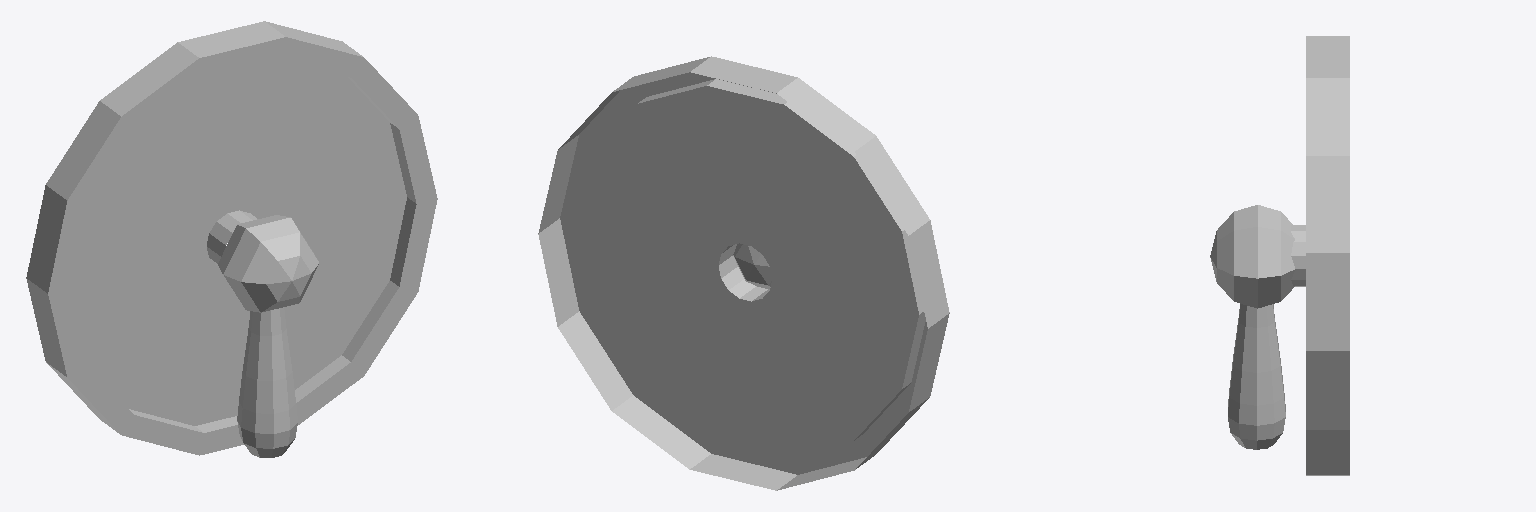
Rendered from bathtub_faucet_handles_4.obj.
The picture shows the model from 3 angles: view 1: azimuth 30°, elevation 25°; view 2: azimuth 150°, elevation 25°; view 3: azimuth 270°, elevation 25°; orthographic projection.
Size of the model in its own units: 2.58 by 2.51 by 0.7996.